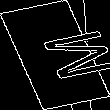M_W: (10, 26, 100, 84)
